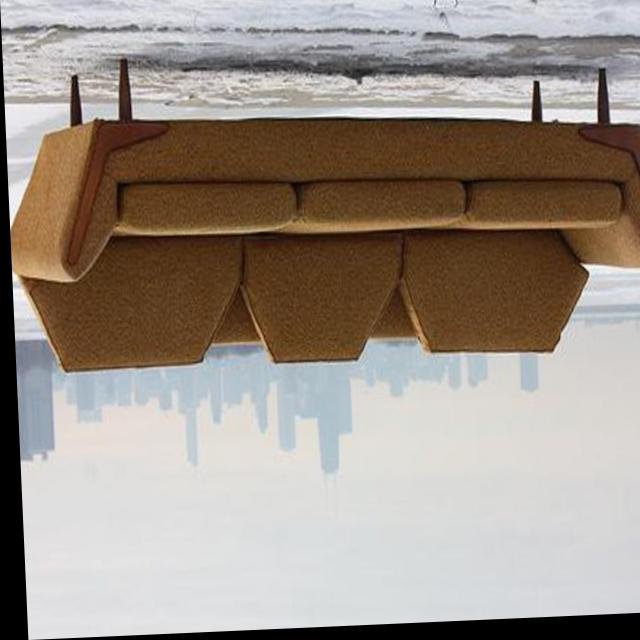Sofa: (2, 46, 640, 375)
